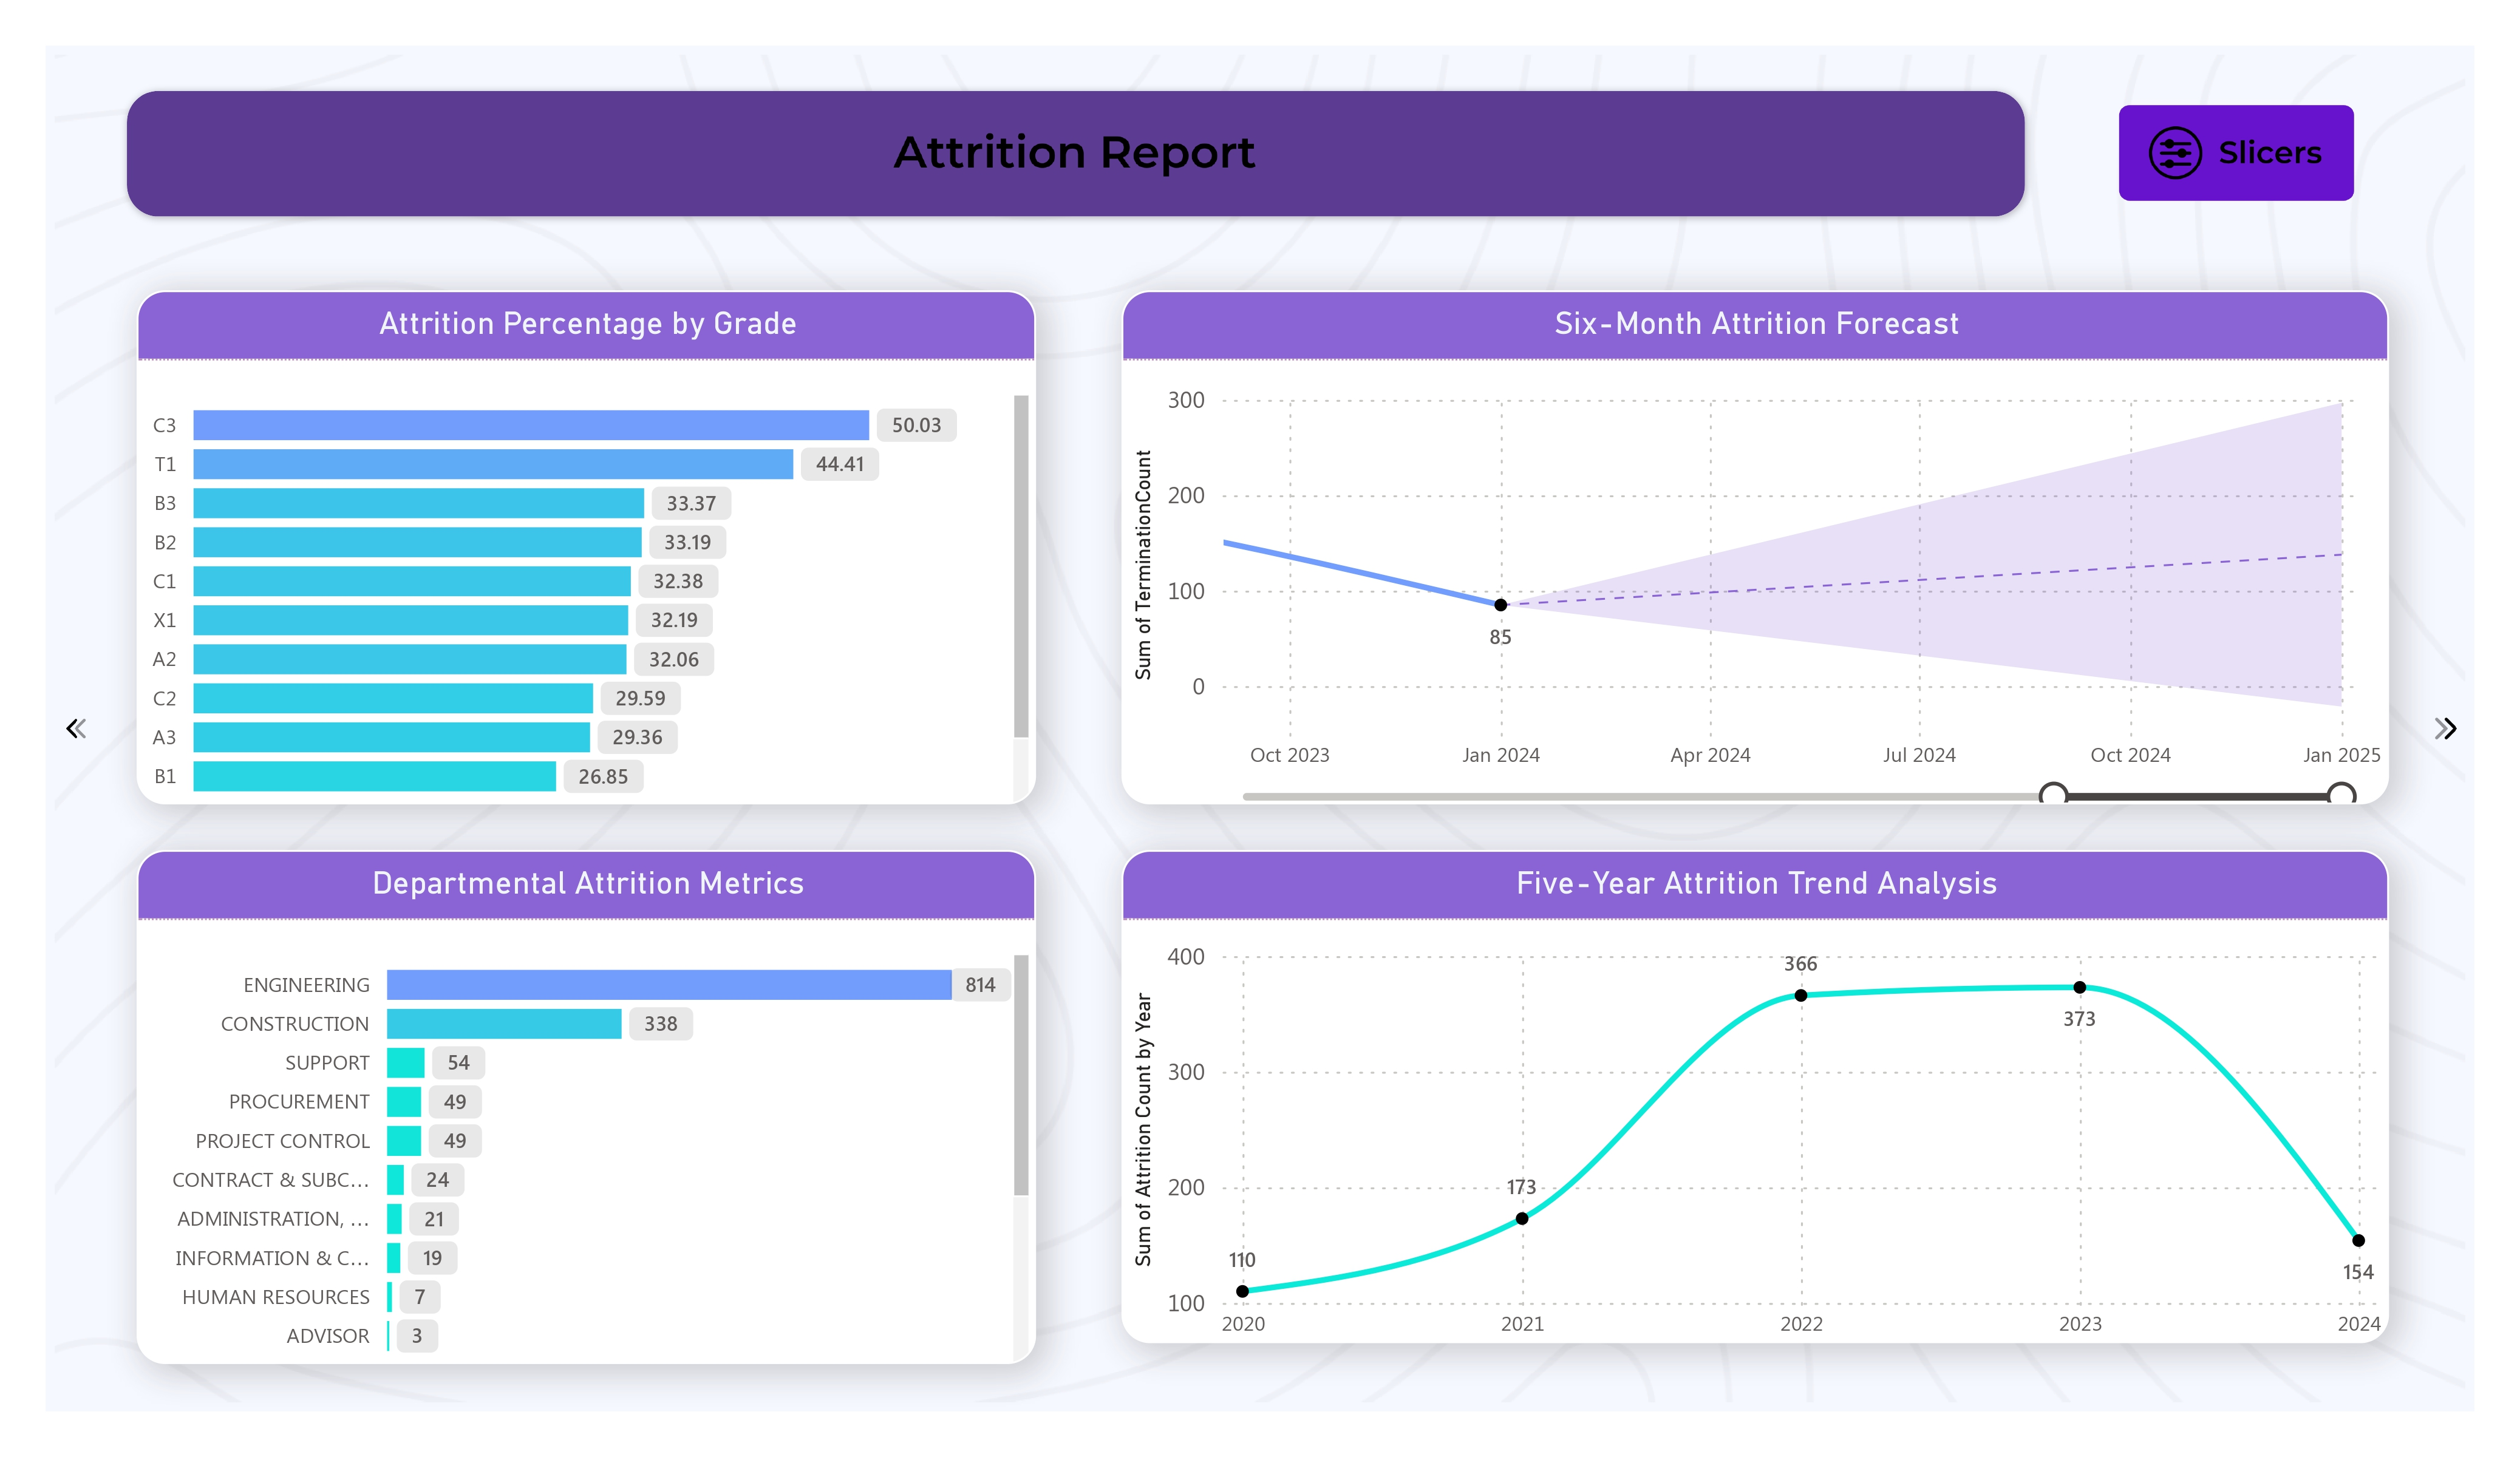

Layout of this report page (visuals, bound fields, positions):
{"tool":"powerbi","page":{"name":"Attrition Report","canvas":[1280,720],"ordinal":3},"visuals":[{"type":"image","box":[0,0,1280,720],"z":0},{"type":"shape","box":[37.5,18.8,1010,76.2],"z":1000},{"type":"barChart","title":"Attrition Percentage by Grade","fields":{"Category":["Hiretermination.Grade"],"Y":["Avg(Hiretermination.Attrition Percentage)"]},"box":[47.7,129.1,474.4,270.9],"z":2000},{"type":"lineChart","title":"Six-Month Attrition Forecast","fields":{"Y":["Sum(Hiretermination.TerminationCount)"],"Category":["Hiretermination.Termination Date.Variation.Date Hierarchy.Year","Hiretermination.Termination Date.Variation.Date Hierarchy.Quarter","Hiretermination.Termination Date.Variation.Date Hierarchy.Month"]},"box":[567.4,129.1,667.4,270.9],"z":9000},{"type":"clusteredBarChart","title":"Departmental Attrition Metrics","fields":{"Category":["Hiretermination.Job Group"],"Y":["Sum(Hiretermination.TerminationCount)"]},"box":[47.7,424.4,474.4,270.9],"z":16000},{"type":"lineChart","title":"Five-Year Attrition Trend Analysis","fields":{"Category":["Hiretermination.Termination Date.Variation.Date Hierarchy.Year"],"Y":["Sum(Hiretermination.Attrition Count by Year)"]},"box":[567.4,424.4,667.4,259.3],"z":17000},{"type":"image","box":[392.3,36.2,300.8,40.7],"z":18000},{"type":"image","title":"slicer","box":[1074.1,18.1,160.6,76.9],"z":24000},{"type":"image","title":"page nav 1","box":[0,345.6,31.1,28.9],"z":26000},{"type":"image","title":"page nav 2","box":[1250,338.9,30,41.1],"z":27000}]}

Visuals, with their boxes on the page's 1280x720 design canvas (x1, y1, x2, y2). These are canvas units, not pixel positions in the 2520x1457 screenshot, which may show the page scaled, cropped or inside an application window:
image: <box>0,0,1280,720</box>
shape: <box>38,19,1048,95</box>
"Attrition Percentage by Grade" barChart: <box>48,129,522,400</box>
"Six-Month Attrition Forecast" lineChart: <box>567,129,1235,400</box>
"Departmental Attrition Metrics" clusteredBarChart: <box>48,424,522,695</box>
"Five-Year Attrition Trend Analysis" lineChart: <box>567,424,1235,684</box>
image: <box>392,36,693,77</box>
"slicer" image: <box>1074,18,1235,95</box>
"page nav 1" image: <box>0,346,31,374</box>
"page nav 2" image: <box>1250,339,1280,380</box>
